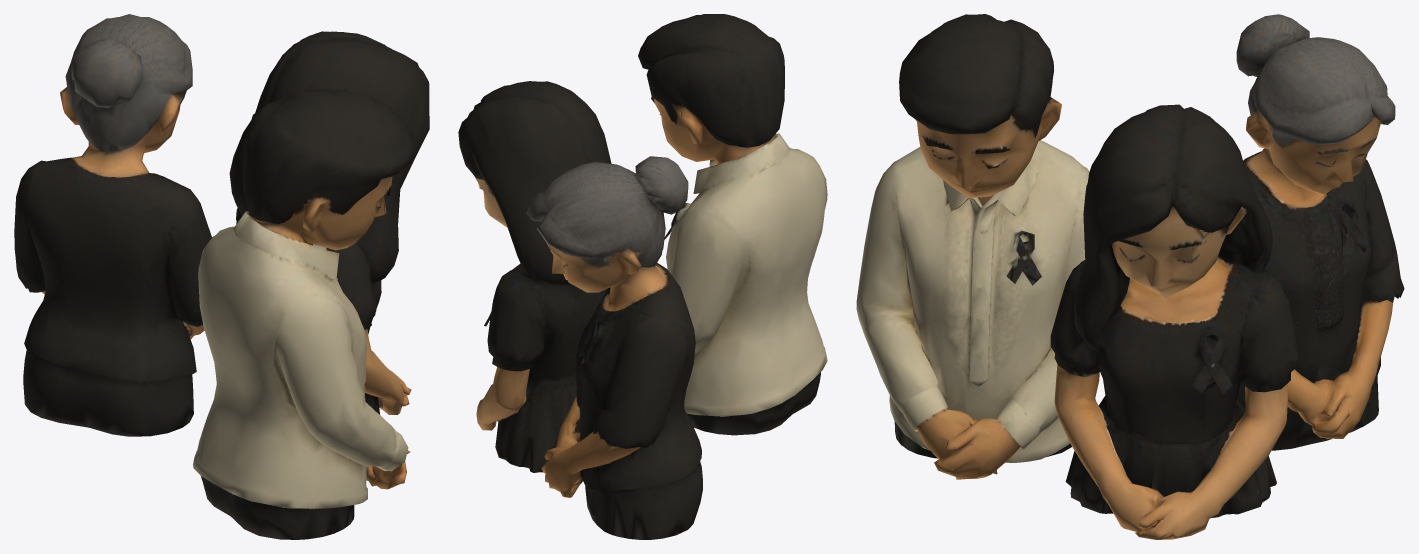
The model's file is Tsapang-512(10k).glb.
3 renders of one model, left to right at view 1: azimuth 30°, elevation 25°; view 2: azimuth 150°, elevation 25°; view 3: azimuth 270°, elevation 25°, orthographic. The views are drawn at different scales.
Parts seen in each view (by area): view 1: tripo_node_6eaf103e-3759-4dd1-b368-22c9972a75fa; view 2: tripo_node_6eaf103e-3759-4dd1-b368-22c9972a75fa; view 3: tripo_node_6eaf103e-3759-4dd1-b368-22c9972a75fa.
Part boxes in pixels (x1,y1,x2,y2): tripo_node_6eaf103e-3759-4dd1-b368-22c9972a75fa: (14, 14, 429, 539); tripo_node_6eaf103e-3759-4dd1-b368-22c9972a75fa: (458, 14, 827, 539); tripo_node_6eaf103e-3759-4dd1-b368-22c9972a75fa: (856, 14, 1404, 539).
Bounding box in the file's own units: 0.6997 × 0.8496 × 0.9815.
Materials: 1 (1 with a texture image).
